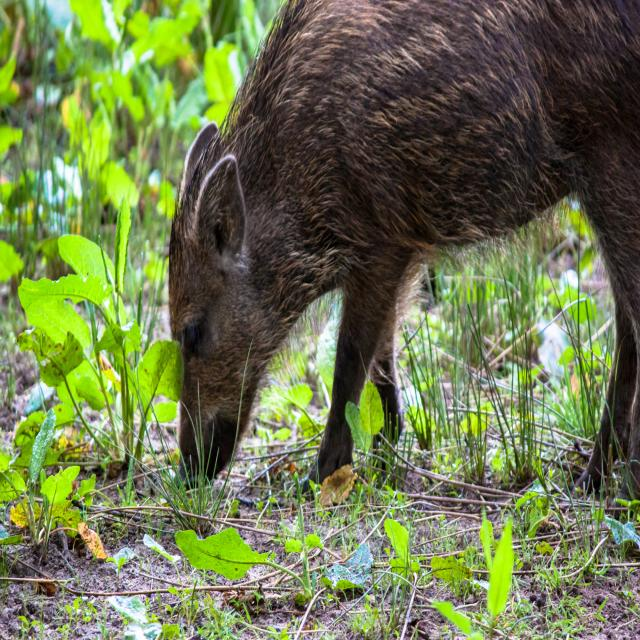pig: (167, 0, 640, 500)
